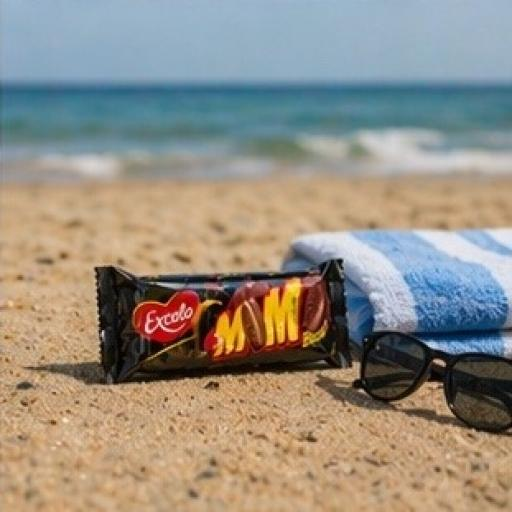MOMO: (62, 181, 385, 431)
